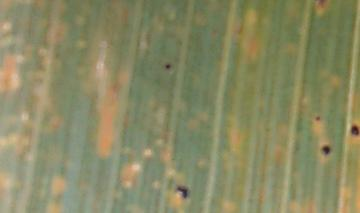tarspot: (177, 184, 190, 199), (321, 144, 331, 155), (351, 125, 360, 135), (316, 1, 328, 8), (164, 63, 172, 71), (315, 114, 321, 122)
